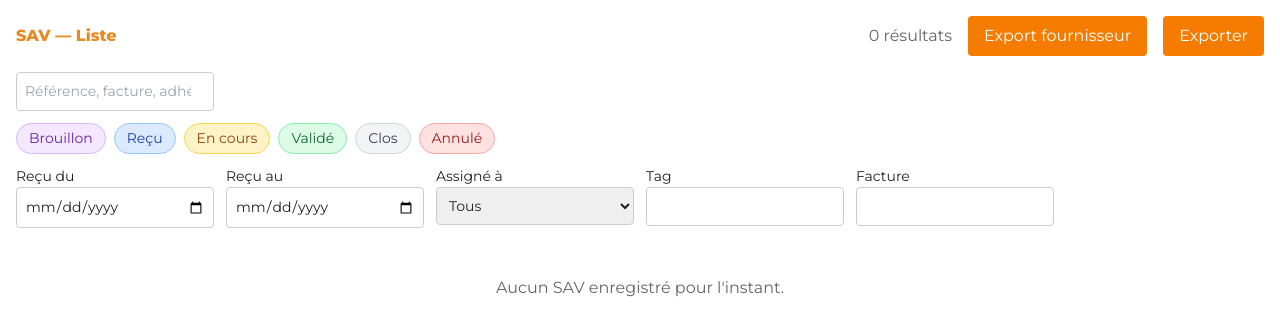
Test: SavListView — Export CSV/XLSX (Story 5.4 AC #11) › TC-02: clic sur Exporter → menu CSV/XLSX visible
Click the button with test id "btn-export-csv" at x=1214, y=36, box x1=1163 y1=16 x2=1264 y2=56
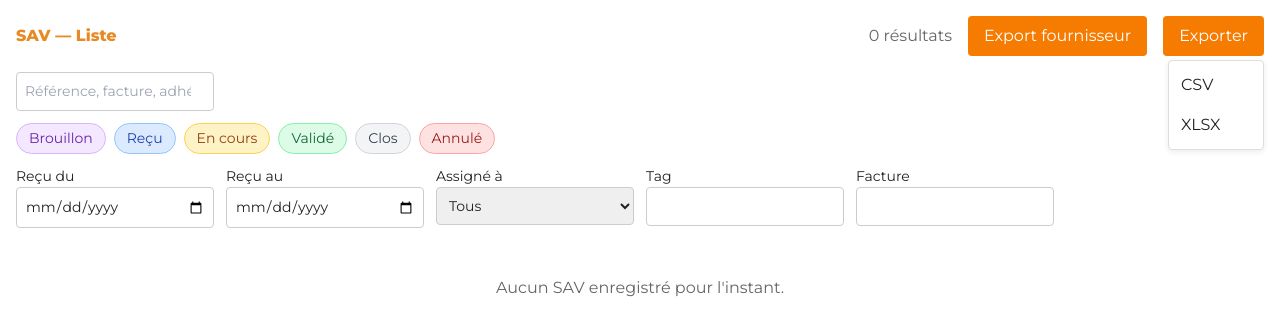
expect the menu item with test id "btn-export-csv-format" is shown: met, box x1=1169 y1=65 x2=1263 y2=105
expect the menu item with test id "btn-export-xlsx-format" is shown: met, box x1=1169 y1=105 x2=1263 y2=145
